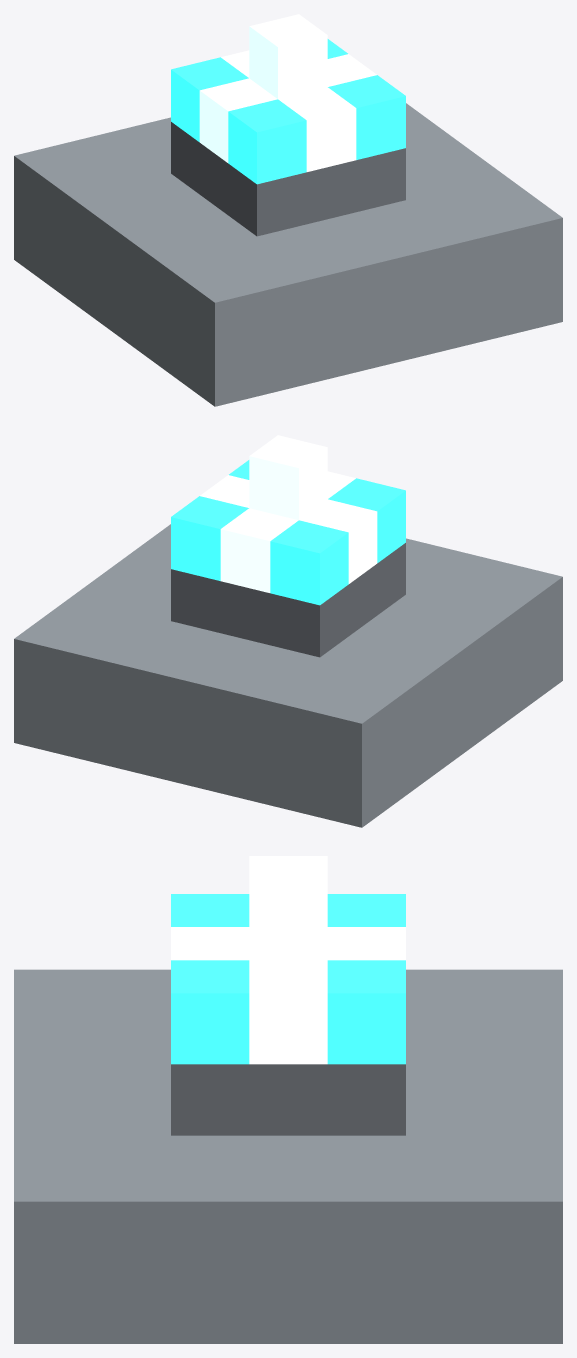
Rendered from idea.lod2.glb.
The picture shows the model from 3 angles, top to bottom: view 1: azimuth 30°, elevation 25°; view 2: azimuth 150°, elevation 25°; view 3: azimuth 270°, elevation 25°; orthographic projection. The views are drawn at different scales.
Visible parts, largest first — view 1: VX_idea_LOD2; view 2: VX_idea_LOD2; view 3: VX_idea_LOD2.
Part boxes in pixels (box(x1,y1,x2,y2)): VX_idea_LOD2: box(14, 14, 562, 406); VX_idea_LOD2: box(14, 435, 562, 827); VX_idea_LOD2: box(14, 856, 562, 1343).
Size of the model in its own units: 4.62 by 3.3 by 4.62.
